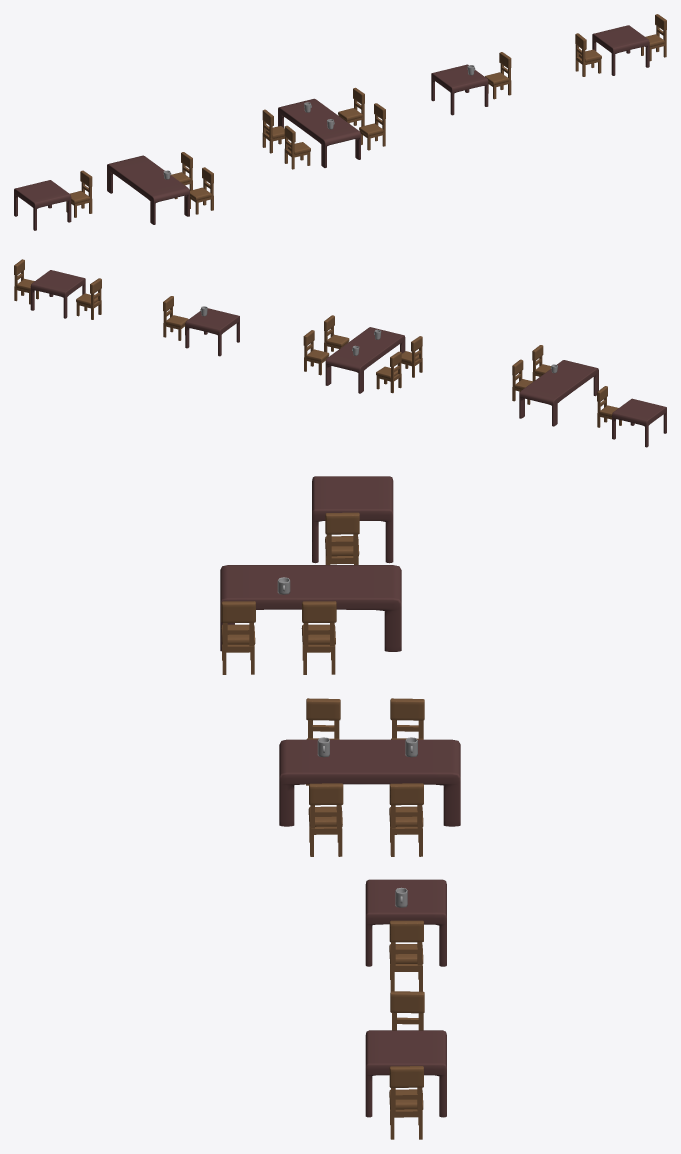
Rendered from chairs_and_tables.fbx.
The picture shows the model from 3 angles, top to bottom: view 1: azimuth 30°, elevation 25°; view 2: azimuth 150°, elevation 25°; view 3: azimuth 270°, elevation 25°; orthographic projection. The views are drawn at different scales.
Visible parts, largest first — view 1: pCube21, pCube20, pCube22, pCube19, pCube18, chair_14, chair_11, chair_17, chair_9, chair_12, chair_18, chair_15 (+3 smaller); view 2: pCube21, pCube20, pCube19, pCube22, pCube18, chair_16, chair_14, chair_10, chair_9, chair_17, chair_15, chair_11 (+3 smaller); view 3: pCube20, pCube21, pCube19, pCube22, pCube18, chair_11, chair_13, chair_15, chair_12, chair_10, chair_9, chair_18 (+3 smaller).
Part boxes in pixels (x1,y1,x2,y2): pCube21: (107,155,189,224); pCube20: (278,98,360,167); pCube22: (14,180,71,230); pCube19: (592,25,649,75); pCube18: (431,64,488,115); chair_14: (575,33,601,76); chair_11: (359,103,385,150); chair_17: (284,125,310,169); chair_9: (485,52,511,99); chair_12: (190,167,213,214); chair_18: (66,170,92,217); chair_15: (641,14,666,61); pCube21: (519,360,598,426); pCube20: (325,327,405,393); pCube19: (30,270,85,318); pCube22: (612,398,666,447); pCube18: (185,308,239,356); chair_16: (376,351,401,393); chair_14: (76,278,101,319); chair_10: (303,330,329,375); chair_9: (163,296,188,340); chair_17: (397,336,422,377); chair_15: (14,259,38,304); chair_11: (324,315,349,352); pCube20: (279,739,460,826); pCube21: (220,565,401,651); pCube19: (365,1030,446,1117); pCube22: (312,476,393,563); pCube18: (365,879,446,966); chair_11: (308,783,343,856); chair_13: (301,601,336,674); chair_15: (389,1066,423,1139); chair_12: (221,601,255,674); chair_10: (389,783,423,856); chair_9: (389,920,423,991); chair_18: (325,512,359,564).
Size of the model in its own units: 62.14 by 3.37 by 10.33.
